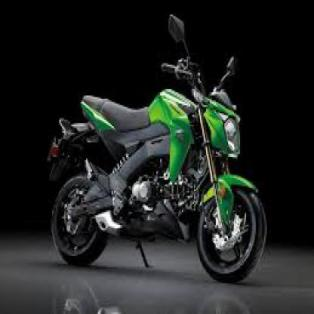Motocicleta: (38, 10, 271, 288)
